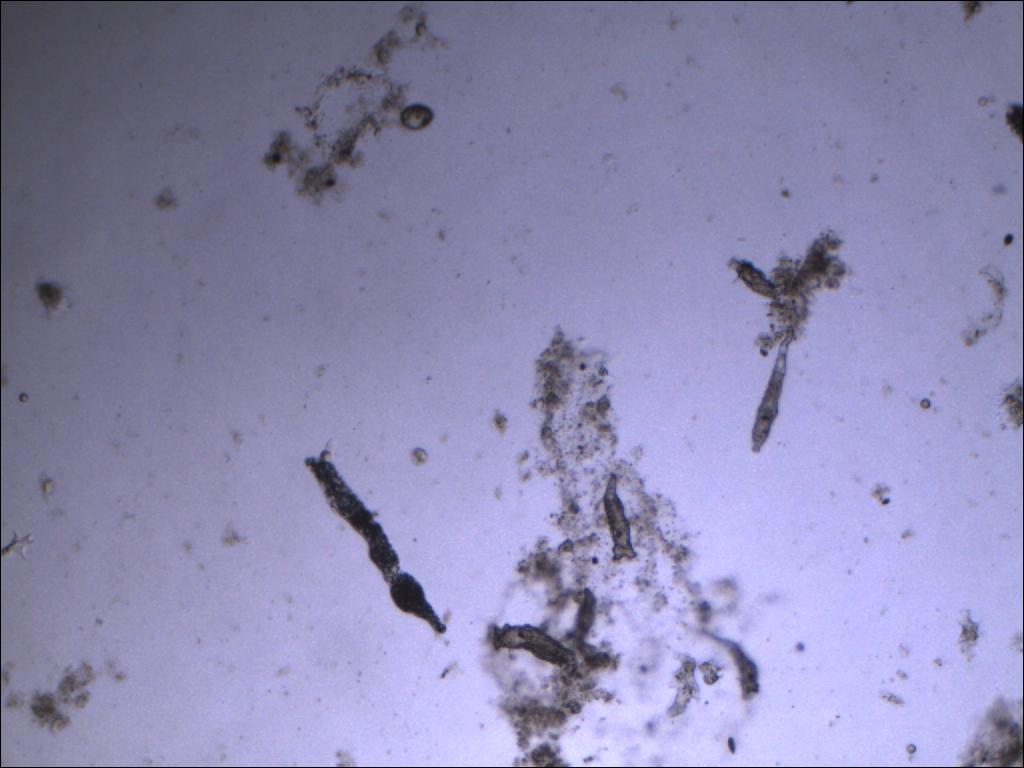amoeba: (296, 445, 452, 641)
